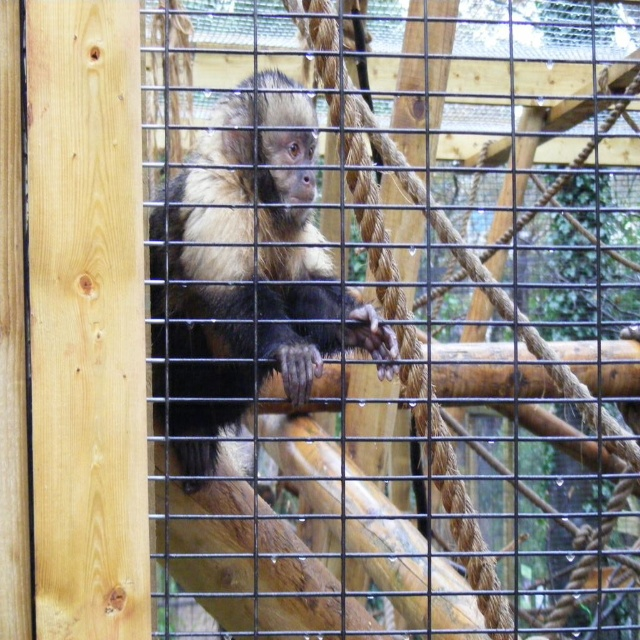Monkey: (163, 82, 402, 525)
